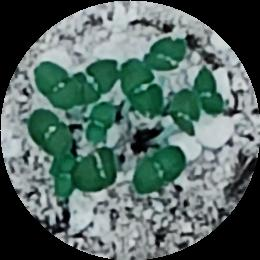Basil: (134, 146, 189, 195), (119, 59, 164, 114), (70, 56, 119, 103), (28, 109, 76, 156), (77, 147, 119, 193), (37, 61, 77, 106), (51, 152, 84, 197), (147, 39, 186, 73), (195, 70, 228, 110), (170, 90, 197, 138), (88, 102, 115, 142)
